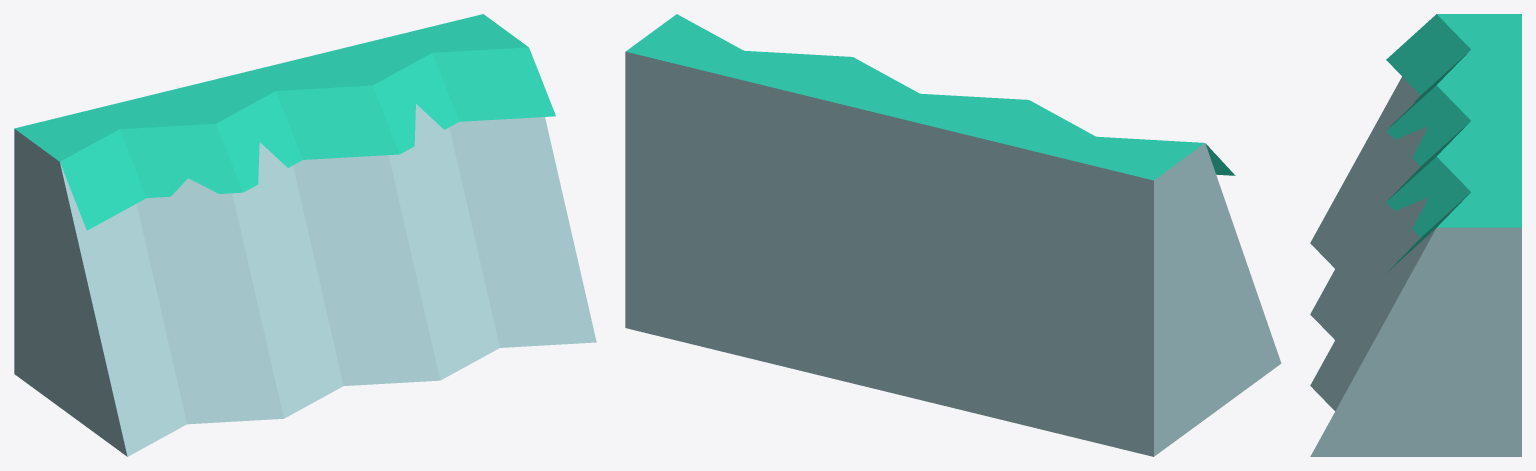
The model's file is cliff_half_stone.dae.
The picture shows the model from 3 angles, left to right: view 1: azimuth 30°, elevation 25°; view 2: azimuth 150°, elevation 25°; view 3: azimuth 270°, elevation 25°; orthographic projection. The views are drawn at different scales.
Visible parts, largest first — view 1: cliff_half_stone; view 2: cliff_half_stone; view 3: cliff_half_stone.
Part boxes in pixels (left/top/right/bottom): cliff_half_stone: left=14, top=14, right=596, bottom=456; cliff_half_stone: left=625, top=14, right=1281, bottom=456; cliff_half_stone: left=1310, top=14, right=1521, bottom=456.
Bounding box in the file's own units: 1 × 0.5 × 0.4185.
